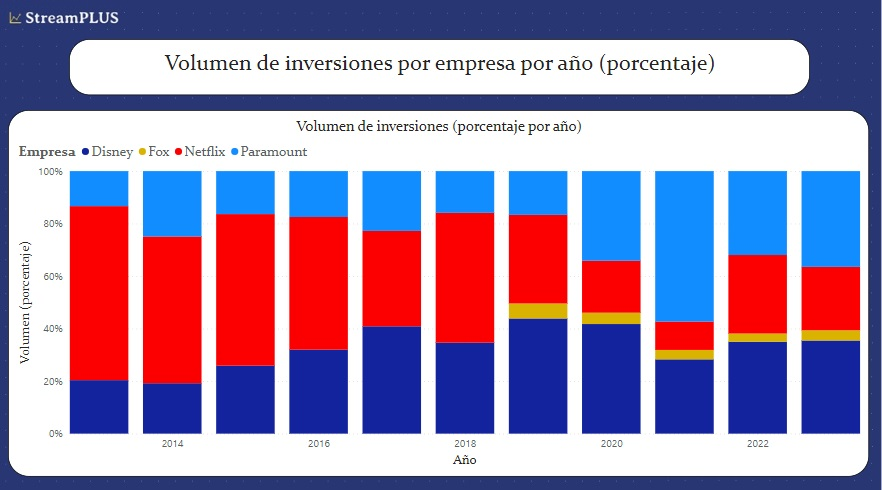

What the dashboard file says about the page in this screenshot:
{"tool":"powerbi","page":{"name":"Volumen por año (porcentaje)","canvas":[1280,720],"ordinal":5},"visuals":[{"type":"image","box":[0,0,1280,720],"z":0},{"type":"textbox","box":[105.1,63.4,1067,80.6],"z":1000},{"type":"hundredPercentStackedColumnChart","title":"Volumen de inversiones (porcentaje por año)","fields":{"Category":["Calendario.Año"],"Y":["Sum(ok_SyP_empx4.Volume)"],"Series":["ok_SyP_empx4.Empresa"]},"box":[17.3,165.6,1239.8,528.5],"z":2000}]}

Visuals, with their boxes in screenshot pixels (x1, y1, x2, y2), scaled from the page's 1280x720 canvas onto the 882x490 screenshot:
image: 0, 0, 881, 489
textbox: 72, 43, 808, 98
"Volumen de inversiones (porcentaje por año)" hundredPercentStackedColumnChart: 12, 113, 866, 472
